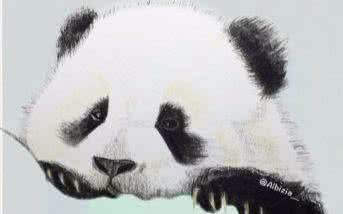panda: (25, 1, 324, 214)
